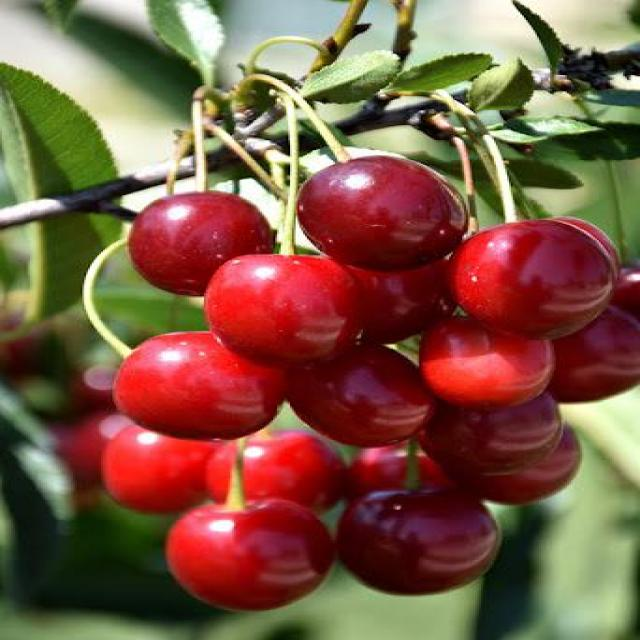cherry: (157, 491, 348, 619), (290, 154, 479, 275), (110, 323, 294, 442), (447, 218, 618, 342), (202, 248, 373, 368), (118, 182, 288, 302), (335, 485, 507, 599), (281, 340, 444, 451), (331, 244, 472, 345), (198, 427, 352, 518), (419, 423, 588, 505), (416, 388, 562, 477), (419, 311, 556, 404), (94, 423, 230, 515), (537, 304, 640, 404), (339, 435, 466, 505)
